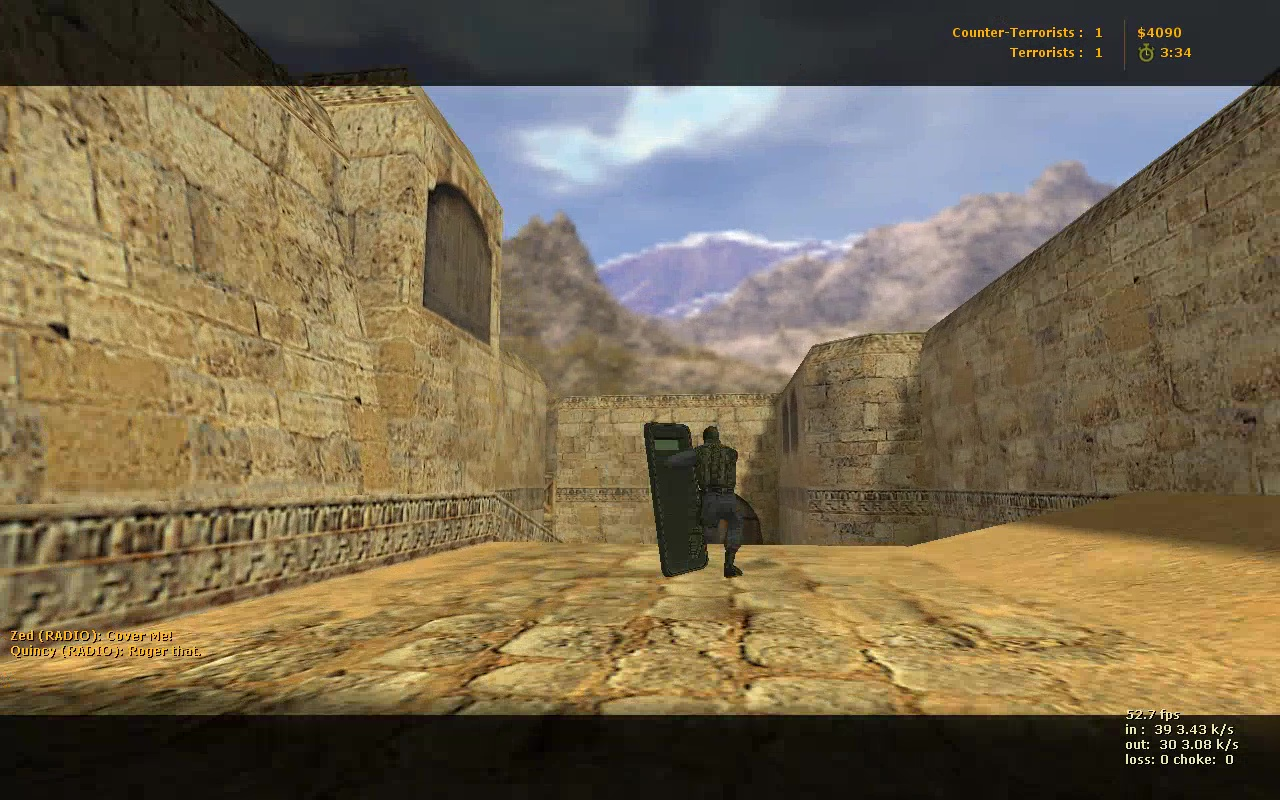ct: (645, 418, 745, 579)
